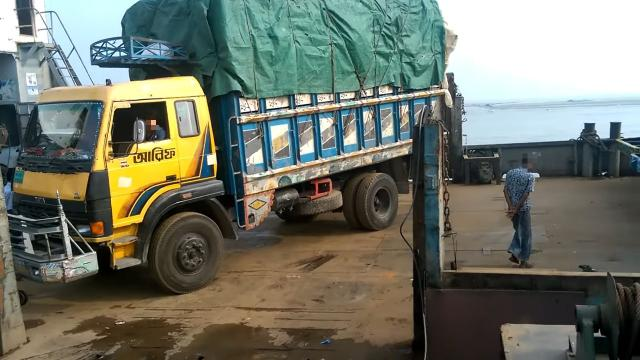truck: (14, 0, 445, 282)
